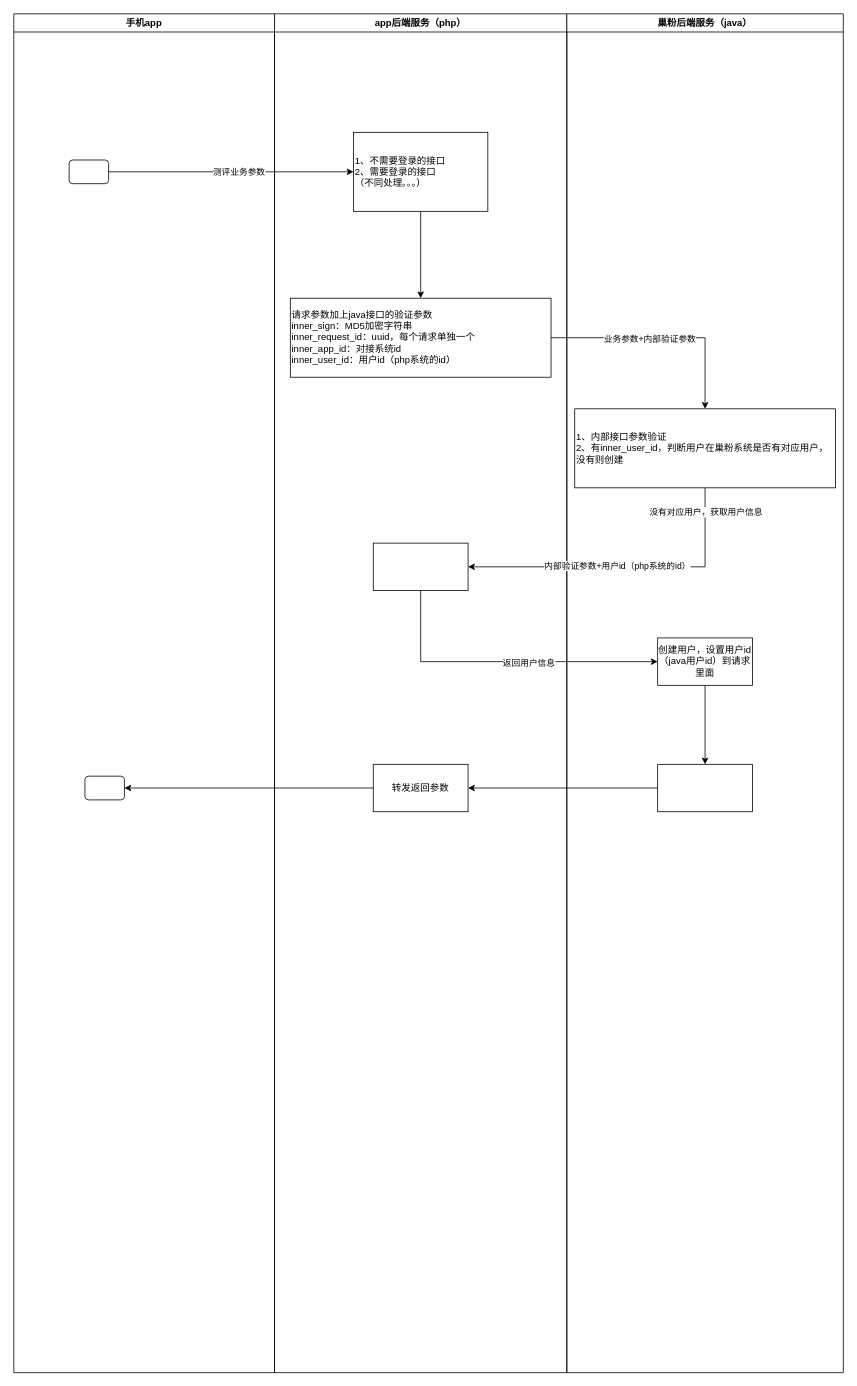
The diagram is 857 pixels wide and 1386 high, and some of its shapes have lost their labels. The box of each missing label's shape, as (x1, y1, x2, y2) in pixels:
开始: (68, 159, 109, 184)
执行业务接口，返回业务数据: (657, 764, 752, 812)
结束: (84, 775, 124, 800)
获取用户信息 用户名，电话，头像: (372, 542, 468, 591)
